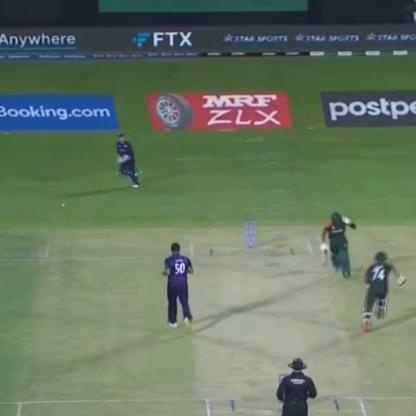ball: (57, 198, 68, 212)
bat: (317, 239, 334, 278)
pitch: (189, 234, 368, 415)
